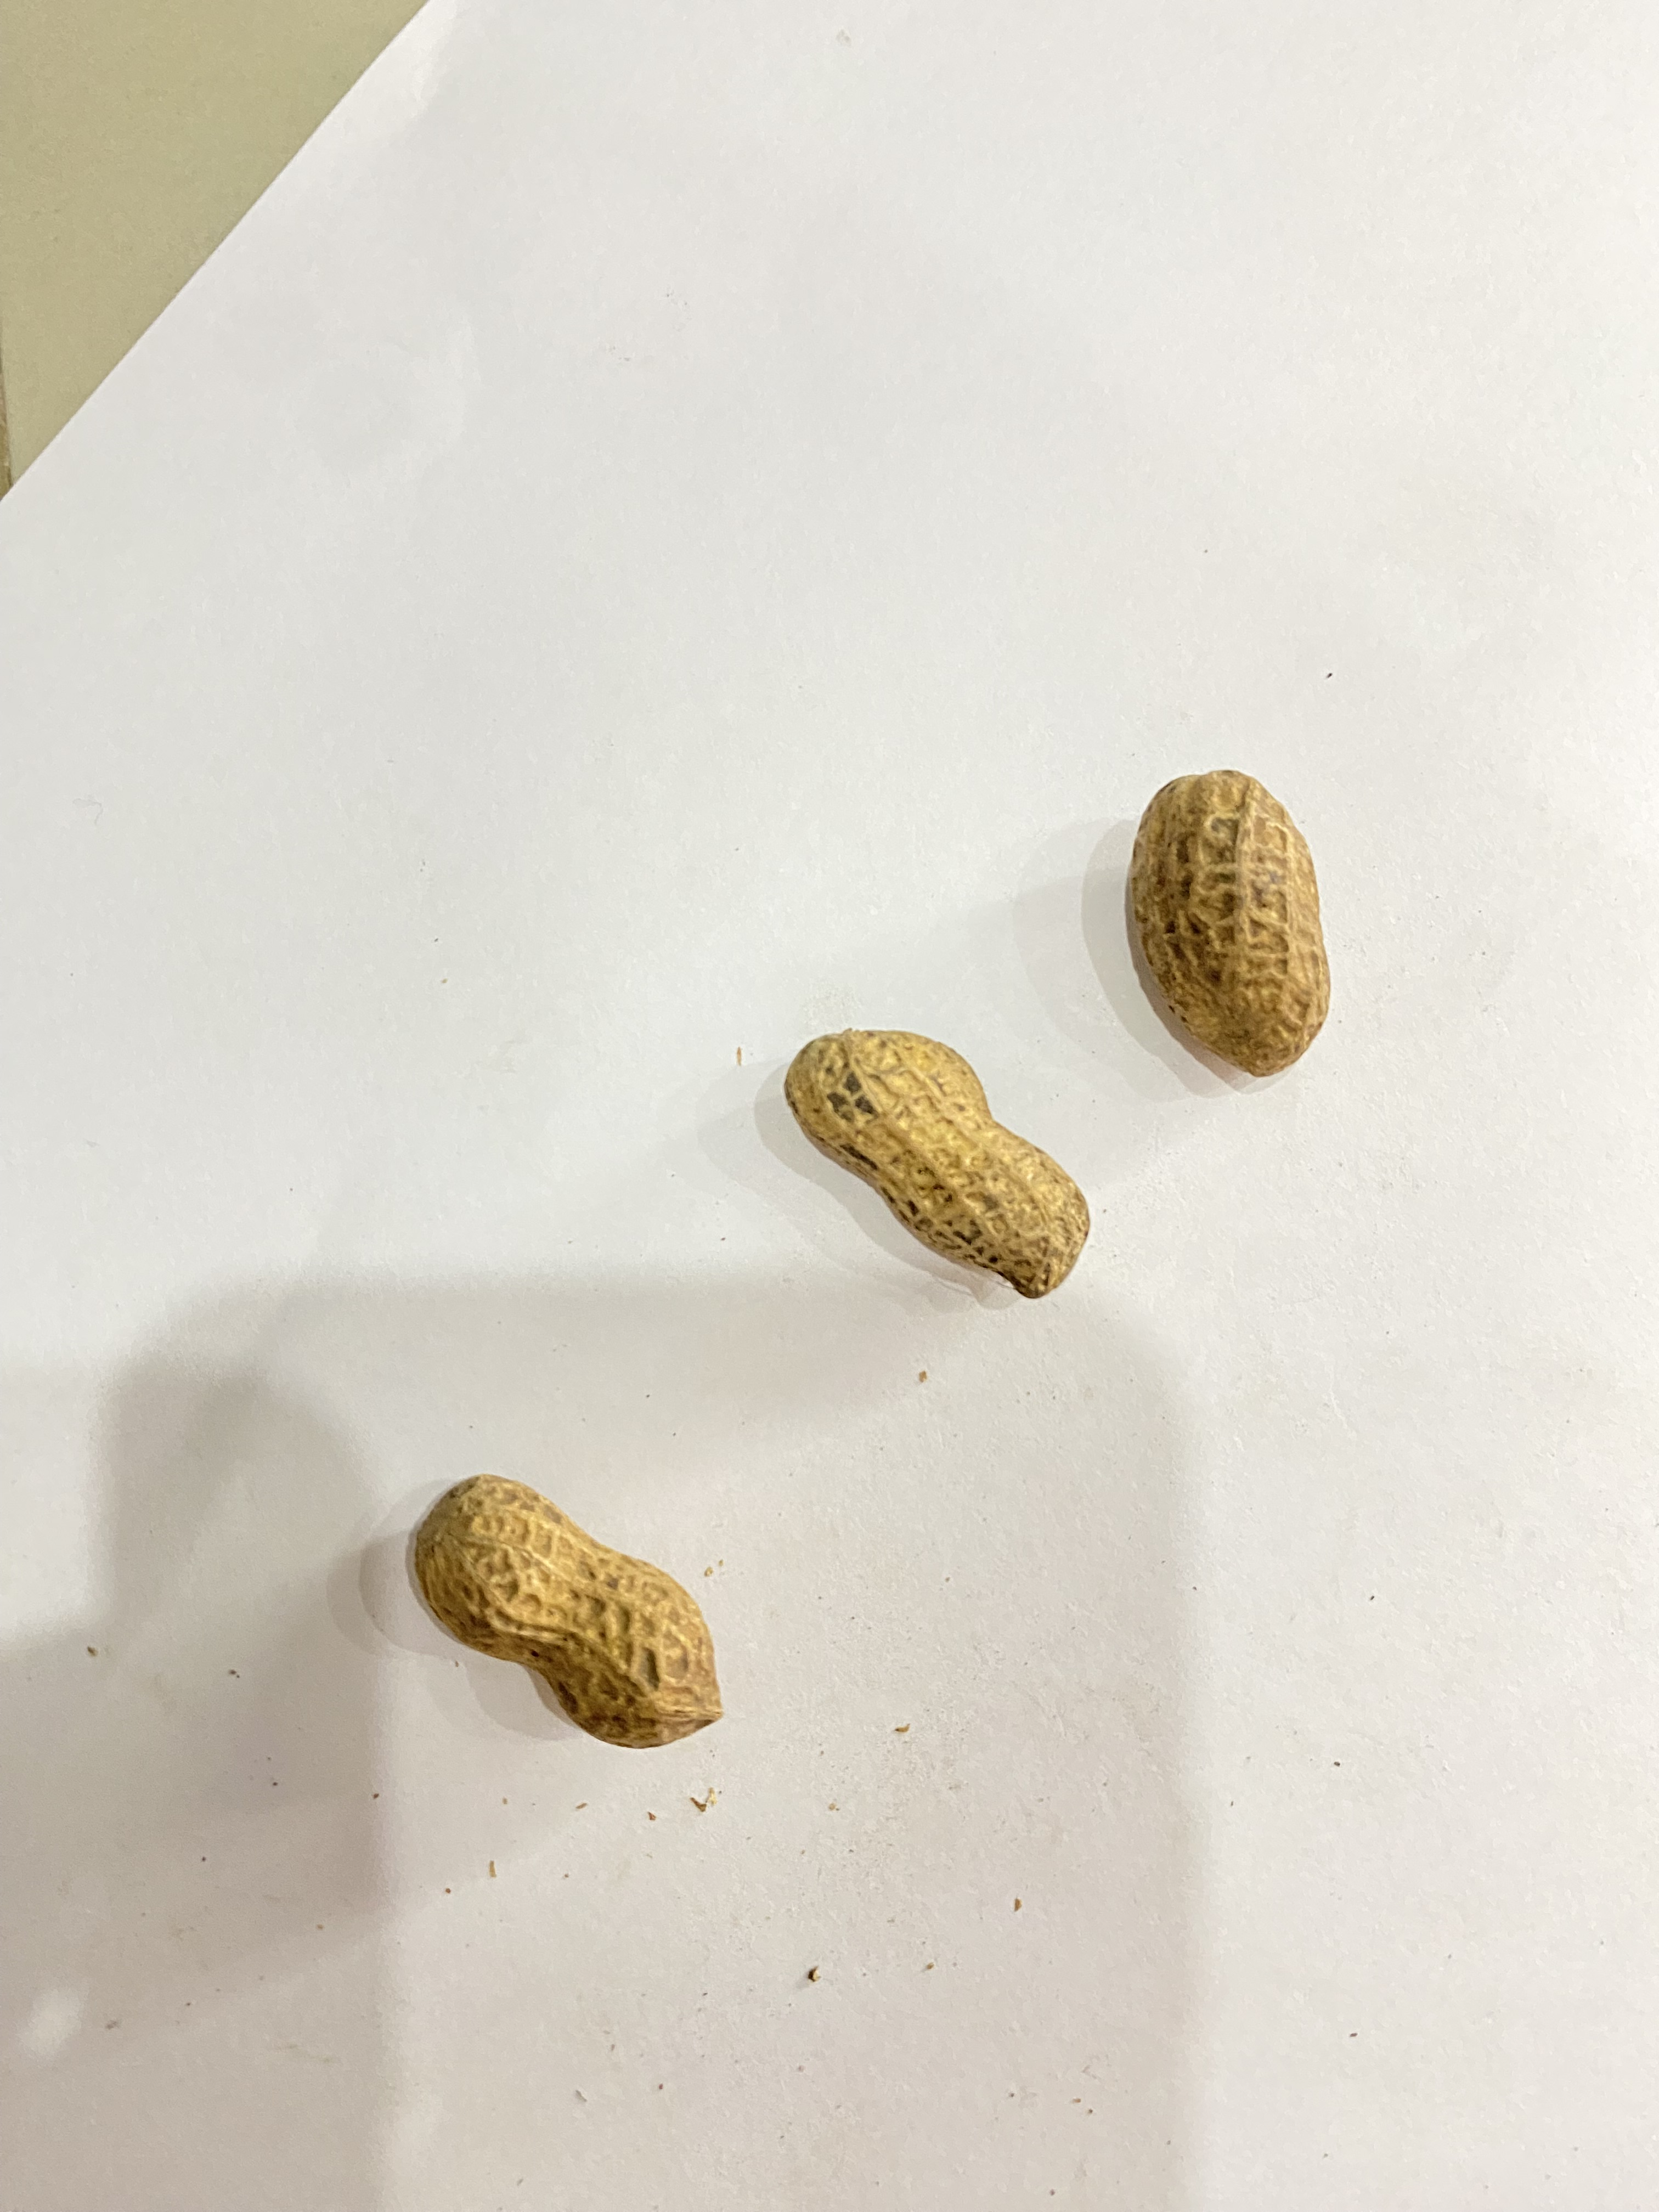kacang1: (1105, 749, 1370, 1116)
kacang2: (416, 1470, 756, 1757), (763, 1031, 1091, 1322)
